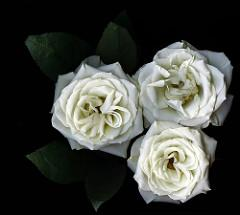Rose: (133, 39, 234, 127), (54, 63, 141, 159), (131, 121, 219, 211)
